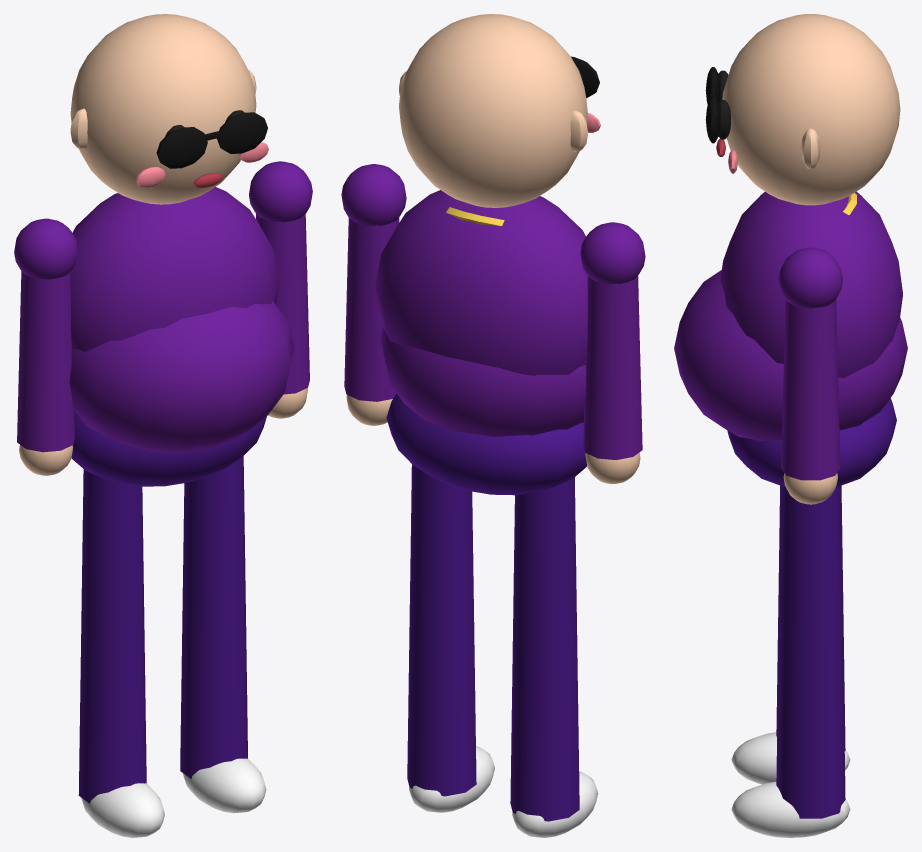
Rendered from underworld_goon.glb.
3 renders of one model, left to right at view 1: azimuth 30°, elevation 25°; view 2: azimuth 150°, elevation 25°; view 3: azimuth 270°, elevation 25°, orthographic.
Parts seen in each view (by area): view 1: Body.004, Leg_R.004, Leg_L.004, Arm_R.004, Arm_L.004; view 2: Body.004, Leg_R.004, Leg_L.004, Arm_R.004, Arm_L.004; view 3: Body.004, Leg_L.004, Arm_L.004, Leg_R.004.
Part boxes in pixels (x1=…): Body.004: x1=69, y1=14, x2=294, y2=486; Leg_R.004: x1=78, y1=469, x2=164, y2=837; Leg_L.004: x1=180, y1=456, x2=266, y2=813; Arm_R.004: x1=14, y1=218, x2=77, y2=475; Arm_L.004: x1=249, y1=161, x2=312, y2=418; Body.004: x1=375, y1=14, x2=600, y2=495; Leg_R.004: x1=510, y1=477, x2=598, y2=837; Leg_L.004: x1=407, y1=464, x2=494, y2=812; Arm_R.004: x1=580, y1=222, x2=645, y2=484; Arm_L.004: x1=341, y1=164, x2=406, y2=425; Body.004: x1=674, y1=14, x2=907, y2=487; Leg_L.004: x1=731, y1=486, x2=850, y2=837; Arm_L.004: x1=778, y1=247, x2=842, y2=504; Leg_R.004: x1=731, y1=485, x2=850, y2=784.
Size of the model in its own units: 0.6756 by 1.75 by 0.4712.
